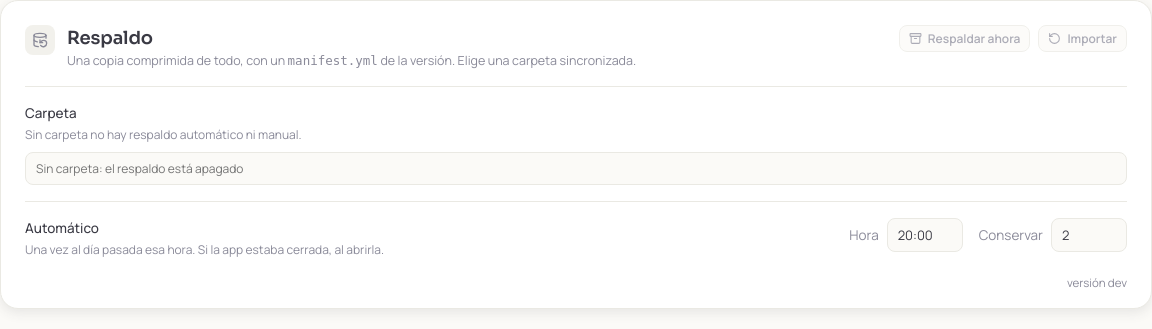
Test: BackupCard · la carpeta › una ruta que no sirve se rechaza y se dice, en vez de guardarse en silencio
Type "respaldos" into the field named "Carpeta de respaldos".
click(576, 168); type("respaldos")  # box 25,152 -> 1127,185
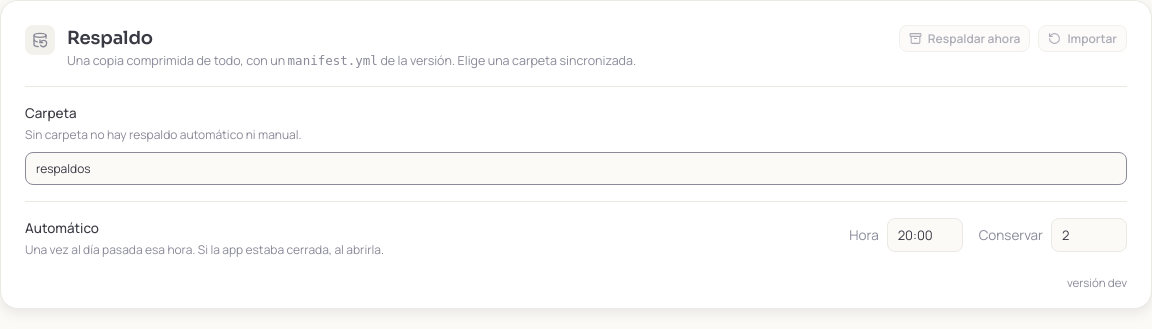
Press Tab
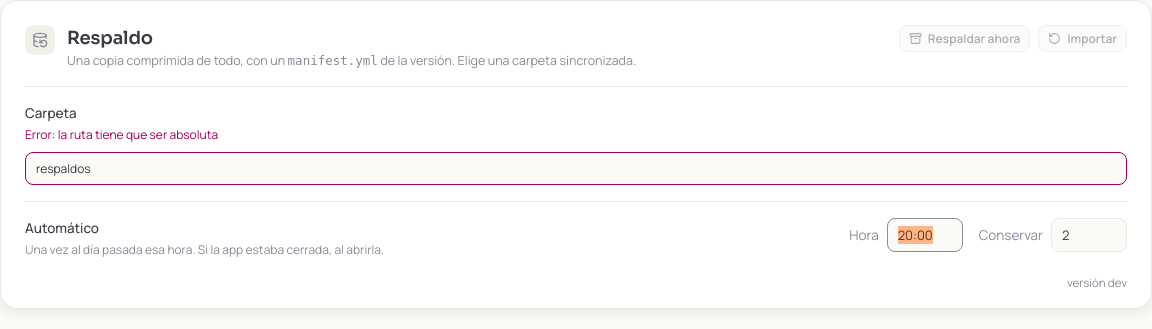
Expected: the text "Error: la ruta tiene que ser absoluta" is shown, 25,126 -> 218,144
